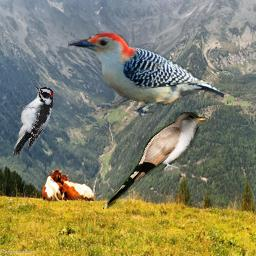Cuckoo: (103, 112, 209, 209)
Woodpecker: (68, 33, 224, 118), (12, 85, 53, 158)
